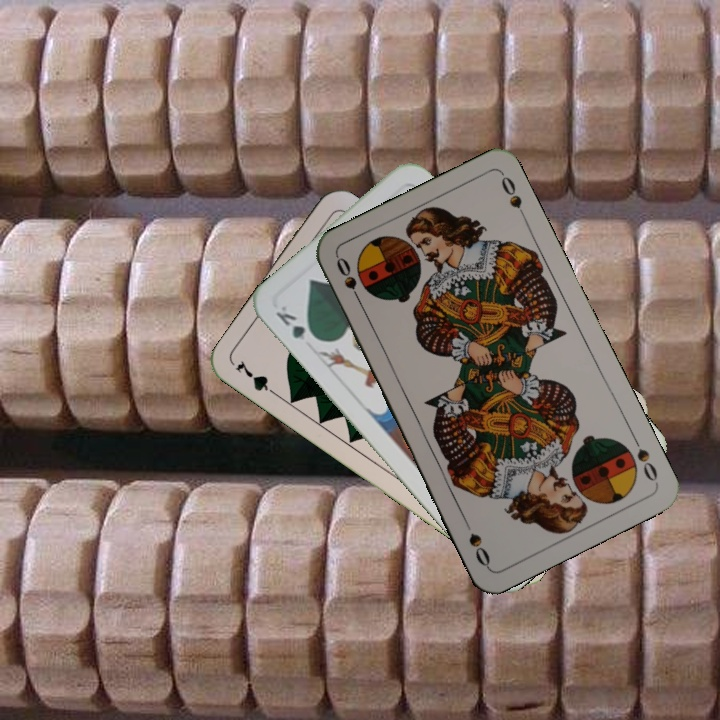G7: (231, 356, 283, 401)
GK: (271, 301, 321, 344)
SO: (332, 253, 366, 309), (628, 430, 660, 485)
